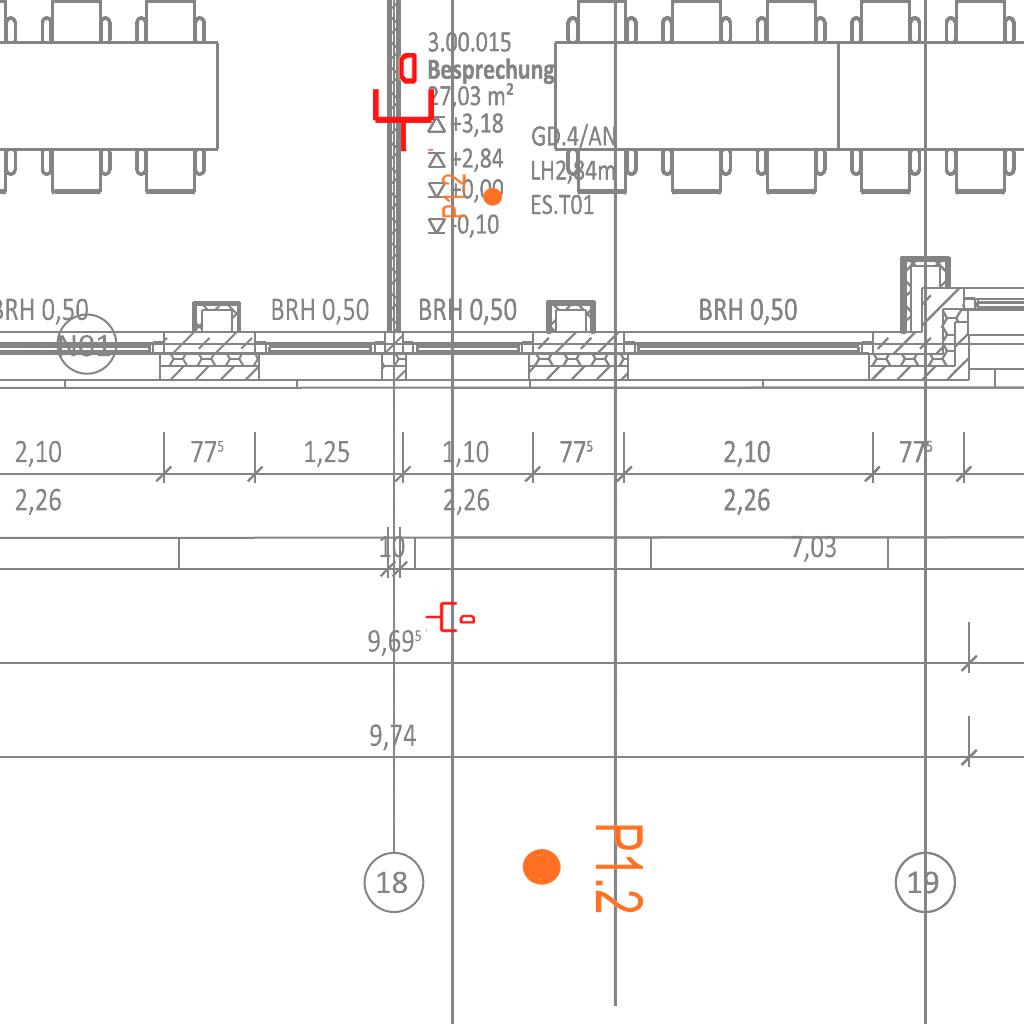Datenanschluss_einfach: (369, 53, 438, 153), (425, 600, 475, 634)
Downlight_LED_Einbauleuchten_Flur: (519, 822, 647, 915), (440, 173, 504, 219)
